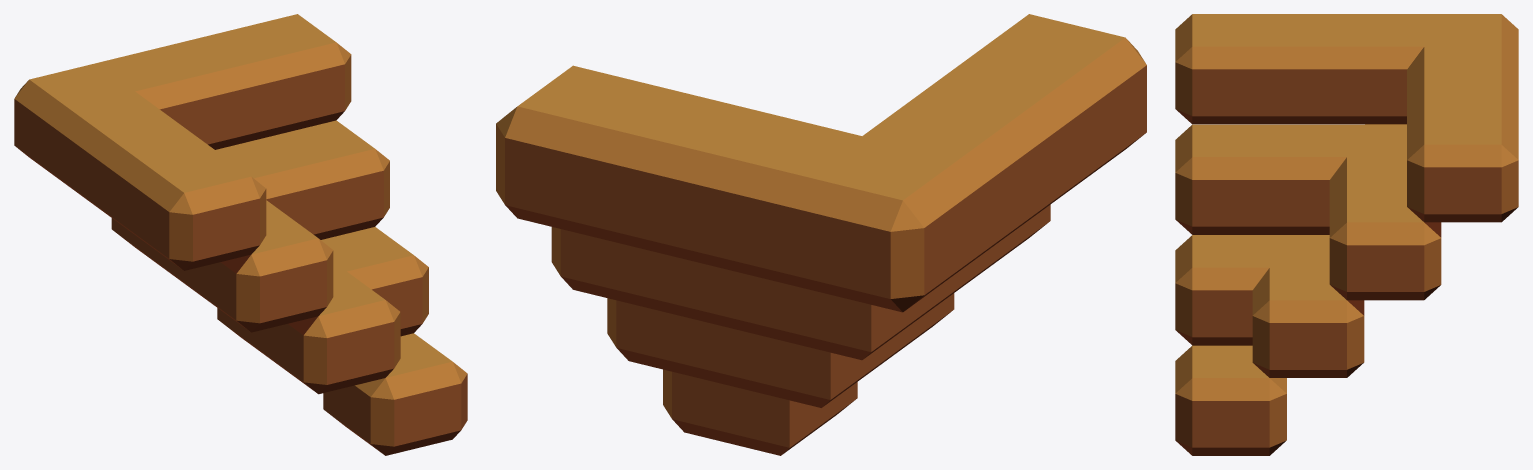
Rendered from m_kub_wood_stairs_only_cornerIn.FBX.
3 views of the same model, side by side, from view 1: azimuth 30°, elevation 25°; view 2: azimuth 150°, elevation 25°; view 3: azimuth 270°, elevation 25° (orthographic). The views are drawn at different scales.
Parts seen in each view (by area): view 1: m_kub_wood_stairs_only_cornerIn; view 2: m_kub_wood_stairs_only_cornerIn; view 3: m_kub_wood_stairs_only_cornerIn.
Boxes of the visible parts, x1=… form: m_kub_wood_stairs_only_cornerIn: x1=14, y1=14, x2=467, y2=455; m_kub_wood_stairs_only_cornerIn: x1=496, y1=14, x2=1146, y2=455; m_kub_wood_stairs_only_cornerIn: x1=1175, y1=14, x2=1518, y2=455.
Size of the model in its own units: 2 by 2 by 2.
